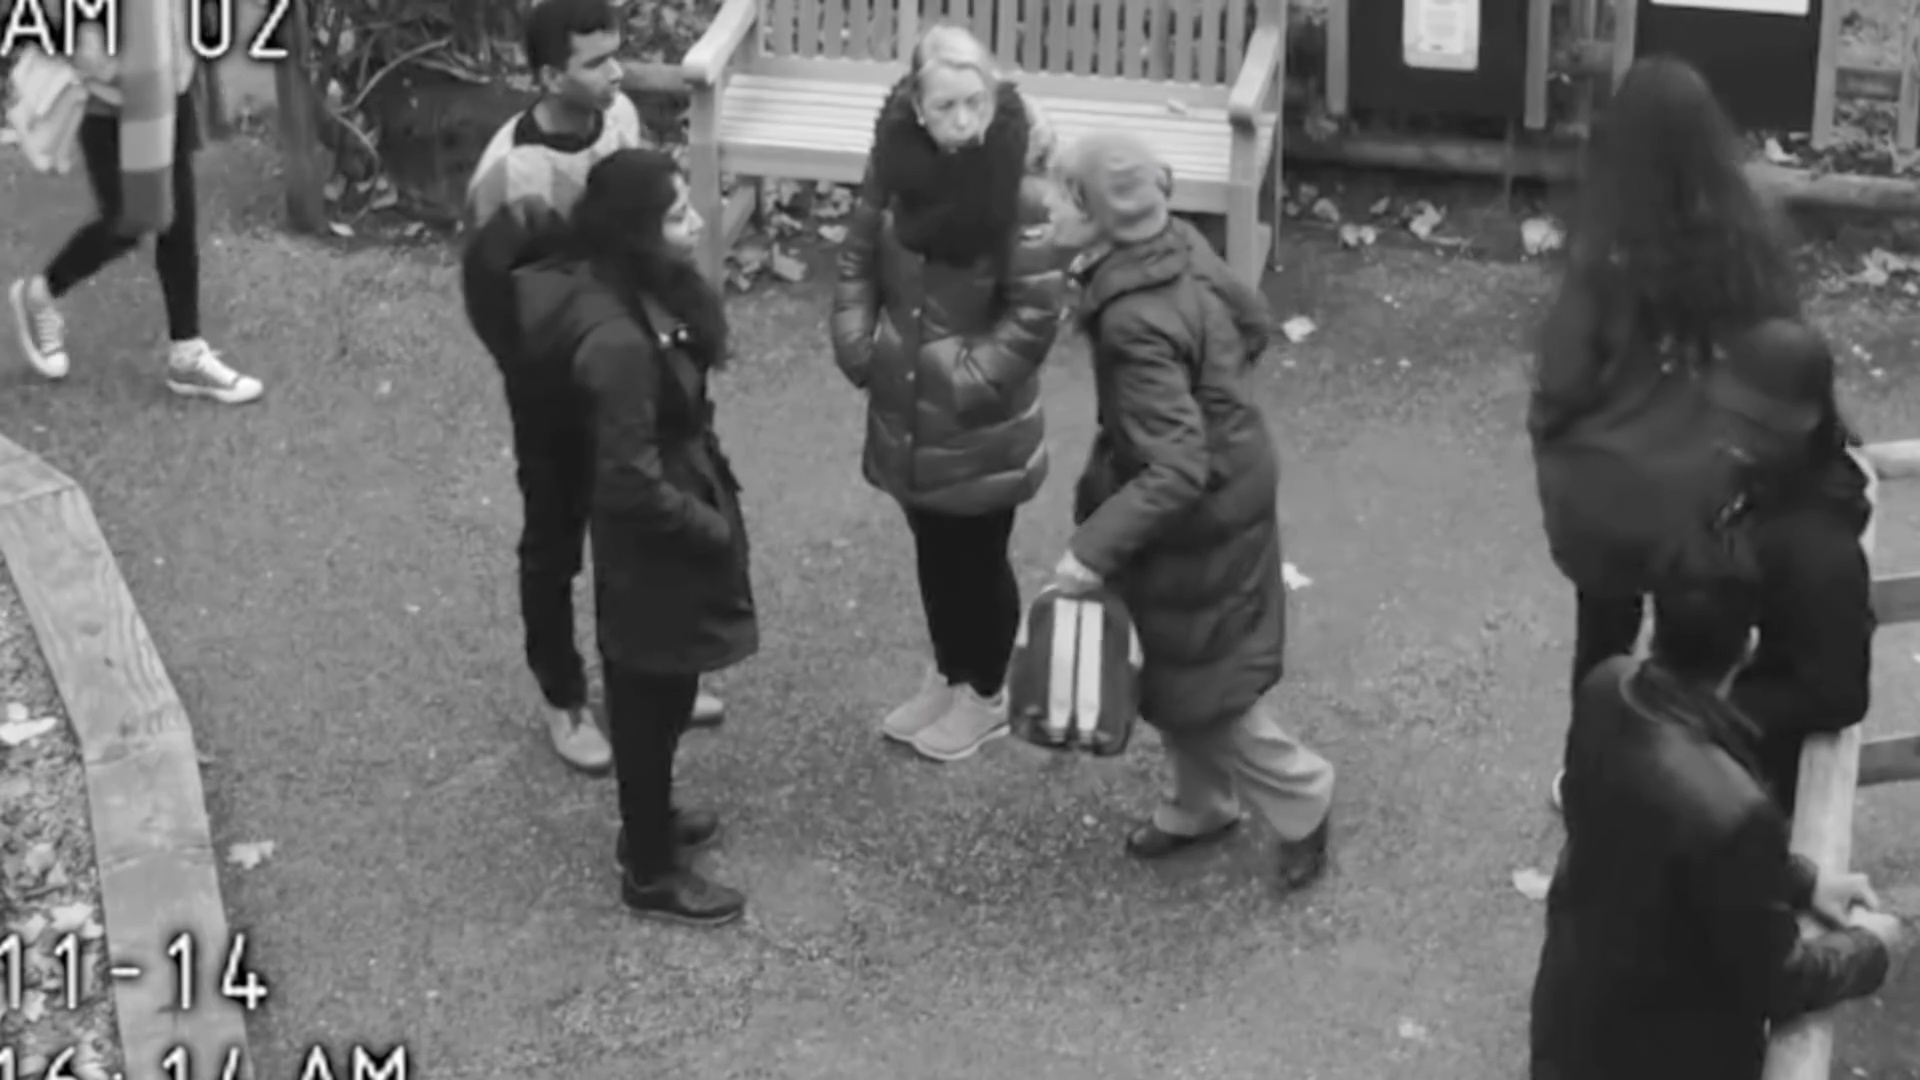face: (905, 56, 1009, 144), (619, 175, 707, 276), (550, 22, 619, 113)
